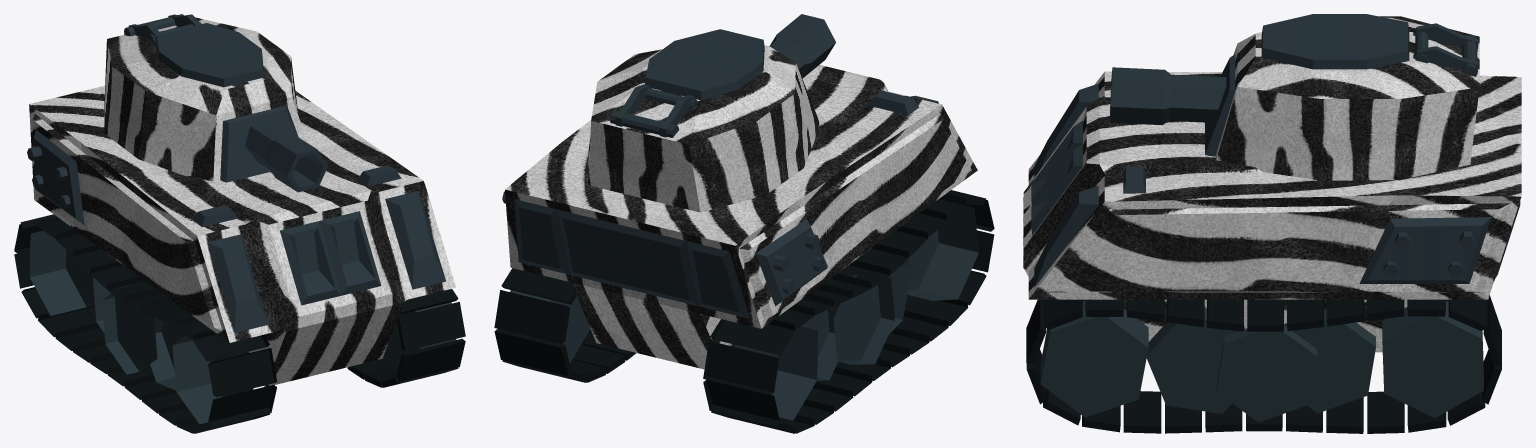
Rendered from tank3.fbx.
3 renders of one model, left to right at view 1: azimuth 30°, elevation 25°; view 2: azimuth 150°, elevation 25°; view 3: azimuth 270°, elevation 25°, orthographic. The views are drawn at different scales.
Visible parts, largest first — view 1: Body, Top Turret; view 2: Body, Top Turret; view 3: Body, Top Turret.
Part boxes in pixels (bbox=[...]): Body: bbox=[14, 85, 465, 433]; Top Turret: bbox=[104, 14, 327, 192]; Body: bbox=[494, 65, 994, 433]; Top Turret: bbox=[588, 14, 835, 212]; Body: bbox=[1023, 71, 1521, 433]; Top Turret: bbox=[1110, 14, 1479, 180].
Bounding box in the file's own units: 4.52 × 4.74 × 6.54.
